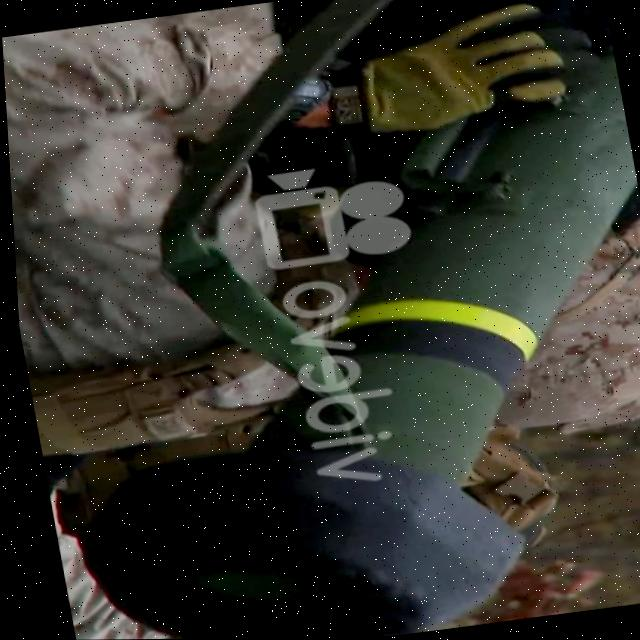rocket: (6, 94, 640, 640)
